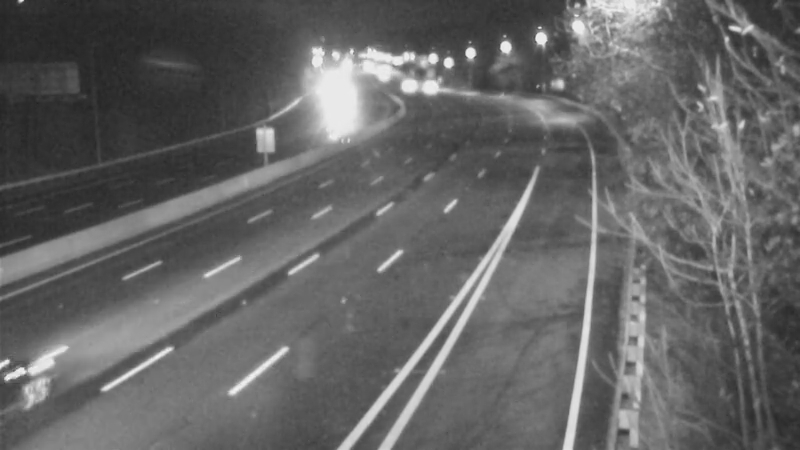vehicle: (378, 63, 428, 113), (405, 61, 455, 111)
